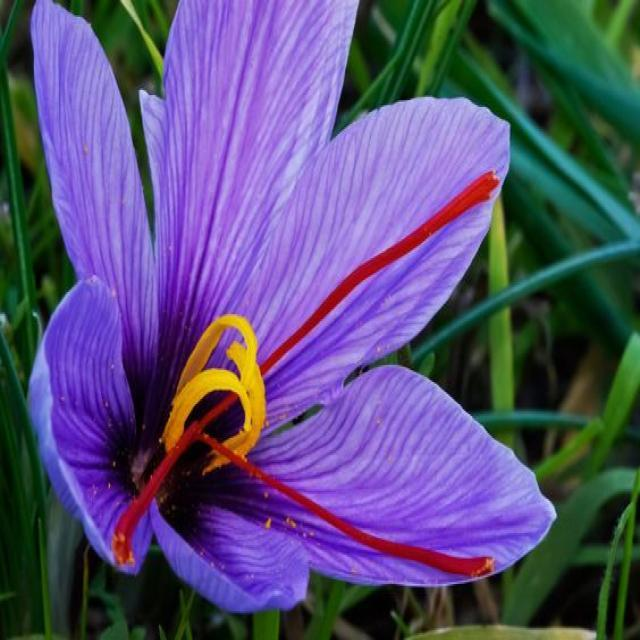Flower: (11, 4, 576, 599)
stigma: (197, 169, 501, 430), (195, 429, 498, 577), (110, 423, 201, 567)
